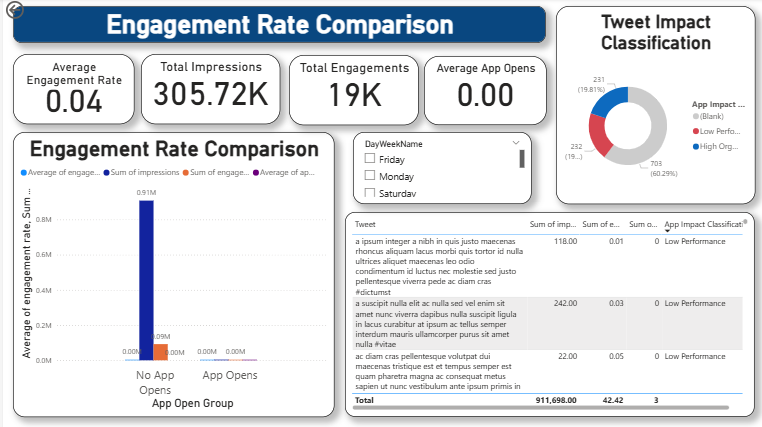

What the dashboard file says about the page in this screenshot:
{"tool":"powerbi","page":{"name":"Task- 2","canvas":[1280,720],"ordinal":1},"visuals":[{"type":"clusteredColumnChart","title":"Engagement Rate Comparison","fields":{"Category":["SocialMedia (1).App Open Group"],"Y":["Avg(SocialMedia (1).engagement rate)","Sum(SocialMedia (1).impressions)","Sum(SocialMedia (1).engagements)","Avg(SocialMedia (1).app opens)"]},"box":[17.3,225,540.4,478.8],"z":0},{"type":"card","title":"Average Engagement Rate","fields":{"Values":["SocialMedia (1).Filtered Avg Engagement Rate"]},"box":[17.3,93.5,204.4,117.8],"z":1000},{"type":"card","title":"Total Impressions","fields":{"Values":["SocialMedia (1).Filtered Total Impressions"]},"box":[232.1,93.5,233.8,117.8],"z":2000},{"type":"card","title":"Total Engagements","fields":{"Values":["SocialMedia (1).Filtered Total Engagements"]},"box":[479.8,95.3,218.2,117.8],"z":3000},{"type":"card","title":"Average App Opens","fields":{"Values":["SocialMedia (1).Filtered Avg App Opens"]},"box":[706.7,97,206.1,116],"z":4000},{"type":"textbox","title":"Engagement Rate Comparison","box":[17.3,13.9,895.5,62.4],"z":5000},{"type":"donutChart","title":"Tweet Impact Classification","fields":{"Y":["CountNonNull(SocialMedia (1).Tweet)"],"Category":["SocialMedia (1).App Impact Classification"]},"box":[928.8,13.5,334.6,332.7],"z":6000},{"type":"tableEx","fields":{"Values":["SocialMedia (1).Tweet","Sum(SocialMedia (1).impressions)","Sum(SocialMedia (1).engagement rate)","Sum(SocialMedia (1).app opens)","SocialMedia (1).App Impact Classification"]},"box":[575,359.6,688.5,344.2],"z":7000},{"type":"actionButton","box":[0,0,100,40],"z":8000},{"type":"slicer","fields":{"Values":["SocialMedia (1).DayWeekName"]},"box":[588.5,225,300,121.2],"z":9000}]}

Visuals, with their boxes in screenshot pixels (x1, y1, x2, y2), scaled from the page's 1280x720 canvas onto the 762x427 screenshot:
"Engagement Rate Comparison" clusteredColumnChart: region(10, 133, 332, 417)
"Average Engagement Rate" card: region(10, 55, 132, 125)
"Total Impressions" card: region(138, 55, 277, 125)
"Total Engagements" card: region(286, 57, 416, 126)
"Average App Opens" card: region(421, 58, 543, 126)
"Engagement Rate Comparison" textbox: region(10, 8, 543, 45)
"Tweet Impact Classification" donutChart: region(553, 8, 752, 205)
tableEx - SocialMedia (1).Tweet x Sum(SocialMedia (1).impressions): region(342, 213, 752, 417)
actionButton: region(0, 0, 60, 24)
slicer - SocialMedia (1).DayWeekName: region(350, 133, 529, 205)
